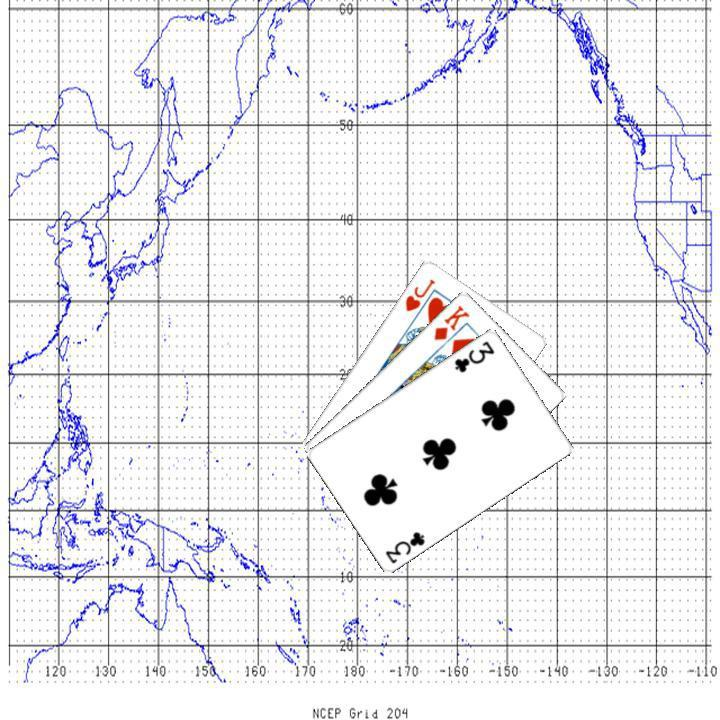3: (450, 336, 497, 374), (381, 527, 427, 565)
J: (400, 274, 437, 313)
K: (429, 300, 472, 342)
